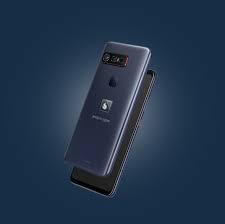Smartphone: (70, 58, 164, 199), (67, 41, 152, 174)
